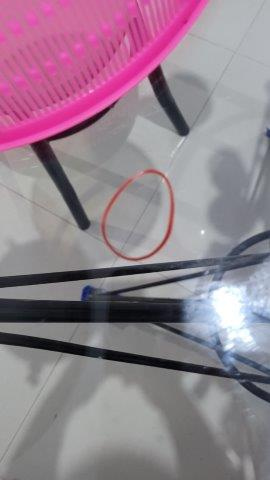karet: (103, 170, 173, 261)
